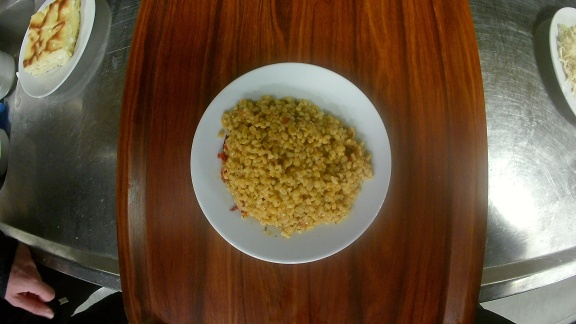bulgur: (190, 62, 392, 264)
